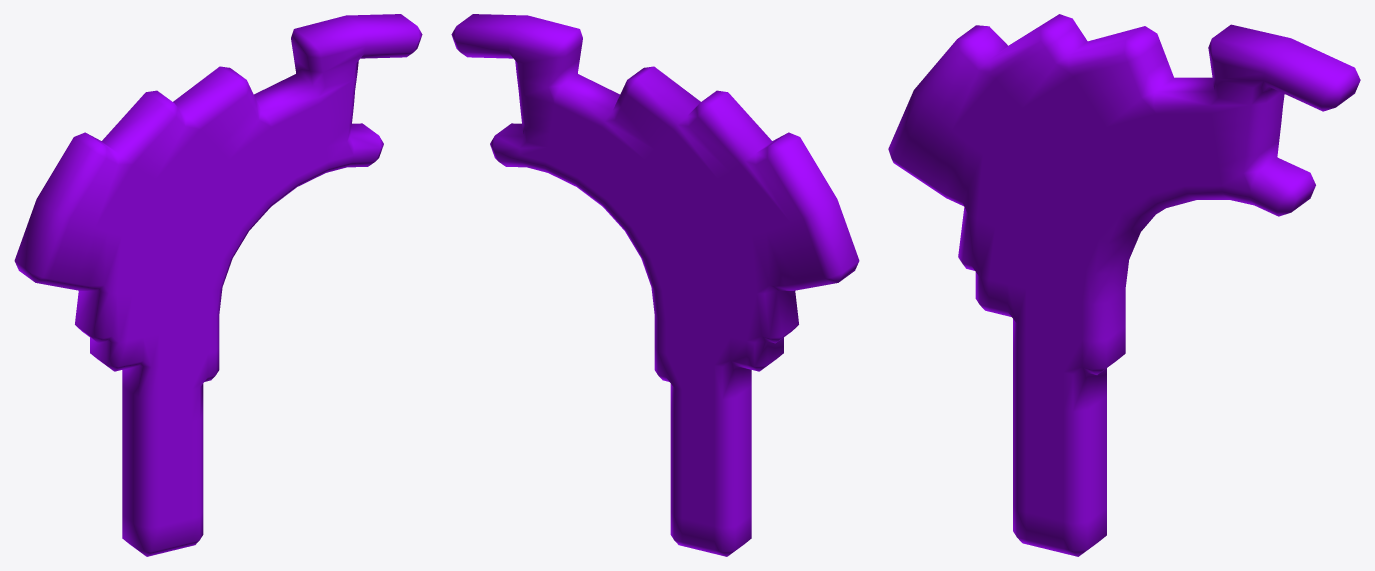
The model's file is OpticalPuzzle_3.FBX.
The picture shows the model from 3 angles, left to right: view 1: azimuth 30°, elevation 25°; view 2: azimuth 150°, elevation 25°; view 3: azimuth 330°, elevation 25°; orthographic projection. The views are drawn at different scales.
Visible parts, largest first — view 1: OpticalPuzzle_3; view 2: OpticalPuzzle_3; view 3: OpticalPuzzle_3.
Boxes of the visible parts, <box> form: OpticalPuzzle_3: <box>14,14,422,556</box>; OpticalPuzzle_3: <box>451,14,859,556</box>; OpticalPuzzle_3: <box>888,14,1360,556</box>.
Size of the model in its own units: 1094 by 1274 by 126.
